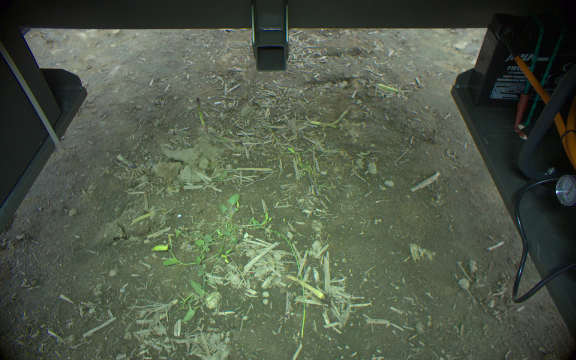aspa: (195, 94, 206, 133)
